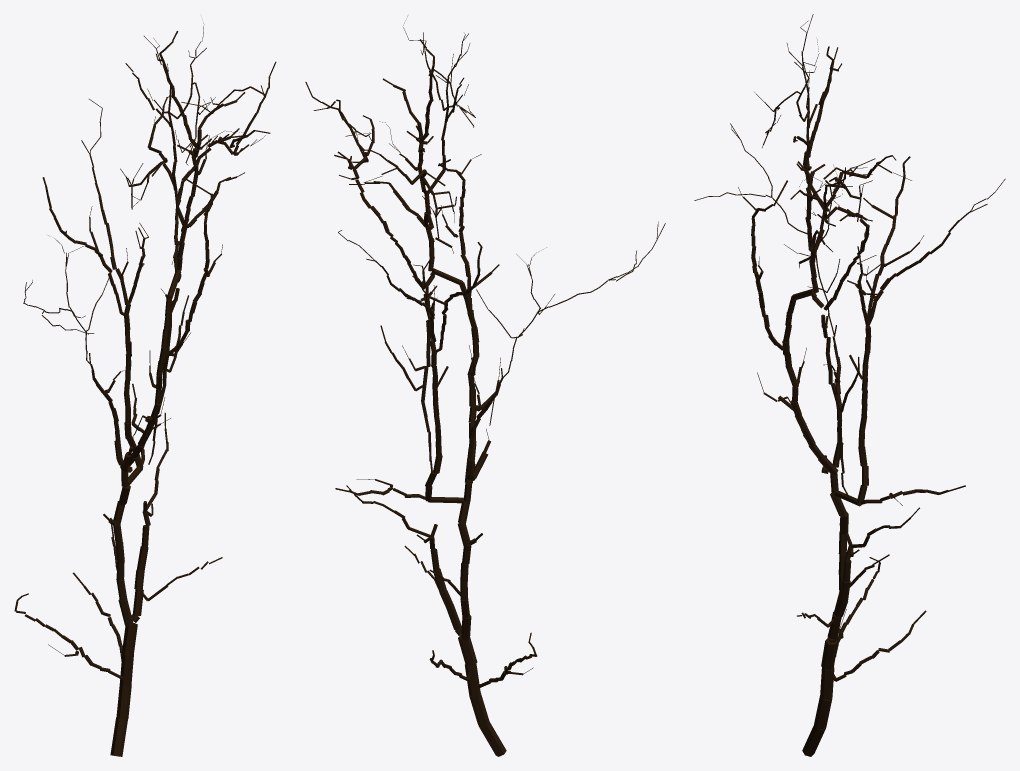
File: tree_542_no_leaf.obj
3 renders of one model, left to right at view 1: azimuth 30°, elevation 25°; view 2: azimuth 150°, elevation 25°; view 3: azimuth 270°, elevation 25°, orthographic. The views are drawn at different scales.
Visible parts, largest first — view 1: TrunkAndBranches; view 2: TrunkAndBranches; view 3: TrunkAndBranches.
Boxes of the visible parts, box(x1,y1,x2,y2) form: TrunkAndBranches: box(14, 23, 276, 756); TrunkAndBranches: box(305, 16, 665, 756); TrunkAndBranches: box(694, 14, 1005, 756).
Size of the model in its own units: 4.22 by 9.53 by 3.52.
